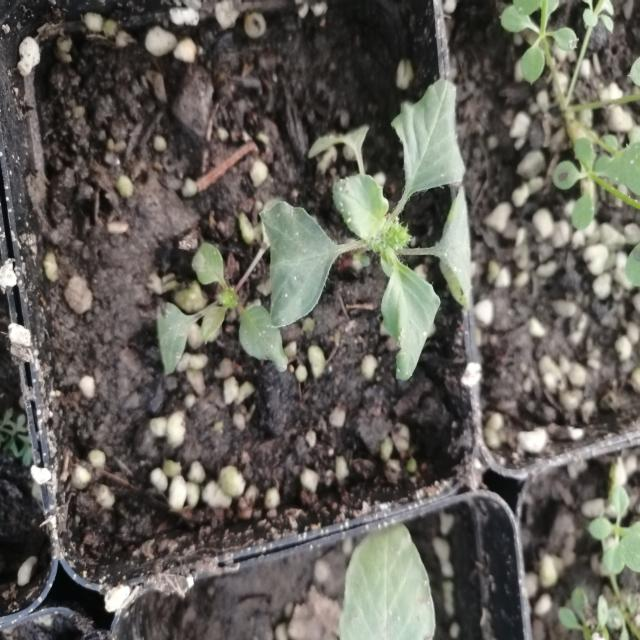pigweed: (241, 78, 483, 368)
